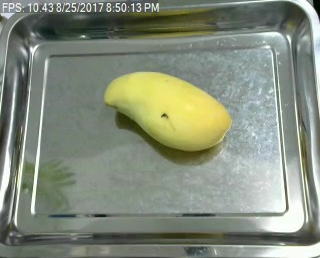Mango: (96, 66, 235, 161)
